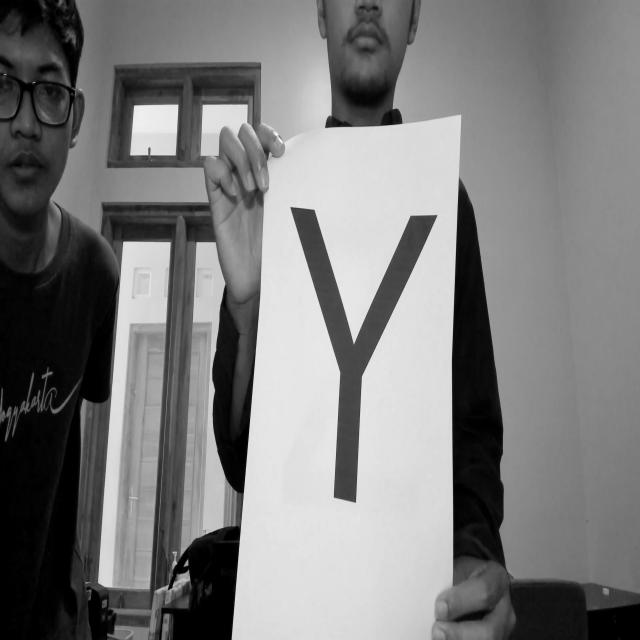y: (280, 194, 442, 522)
